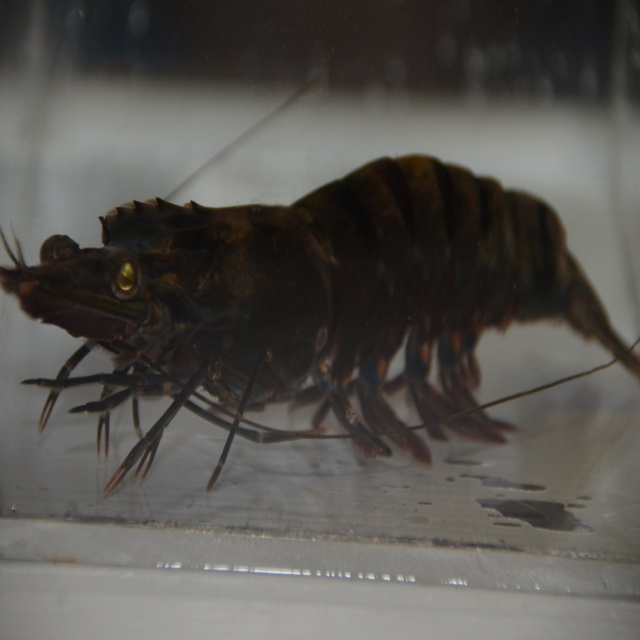Shrimp: (0, 77, 640, 490)
